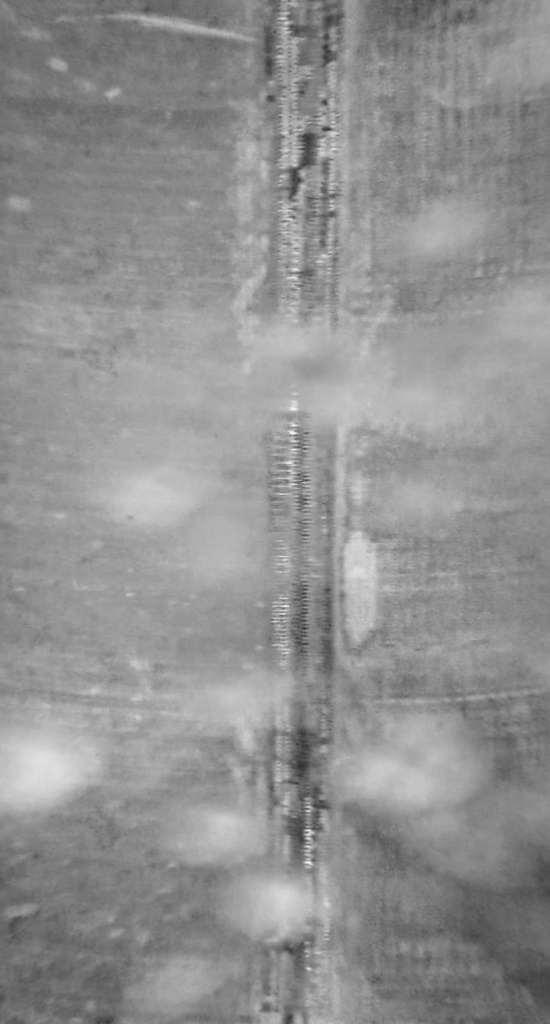splice: (259, 2, 356, 1024)
